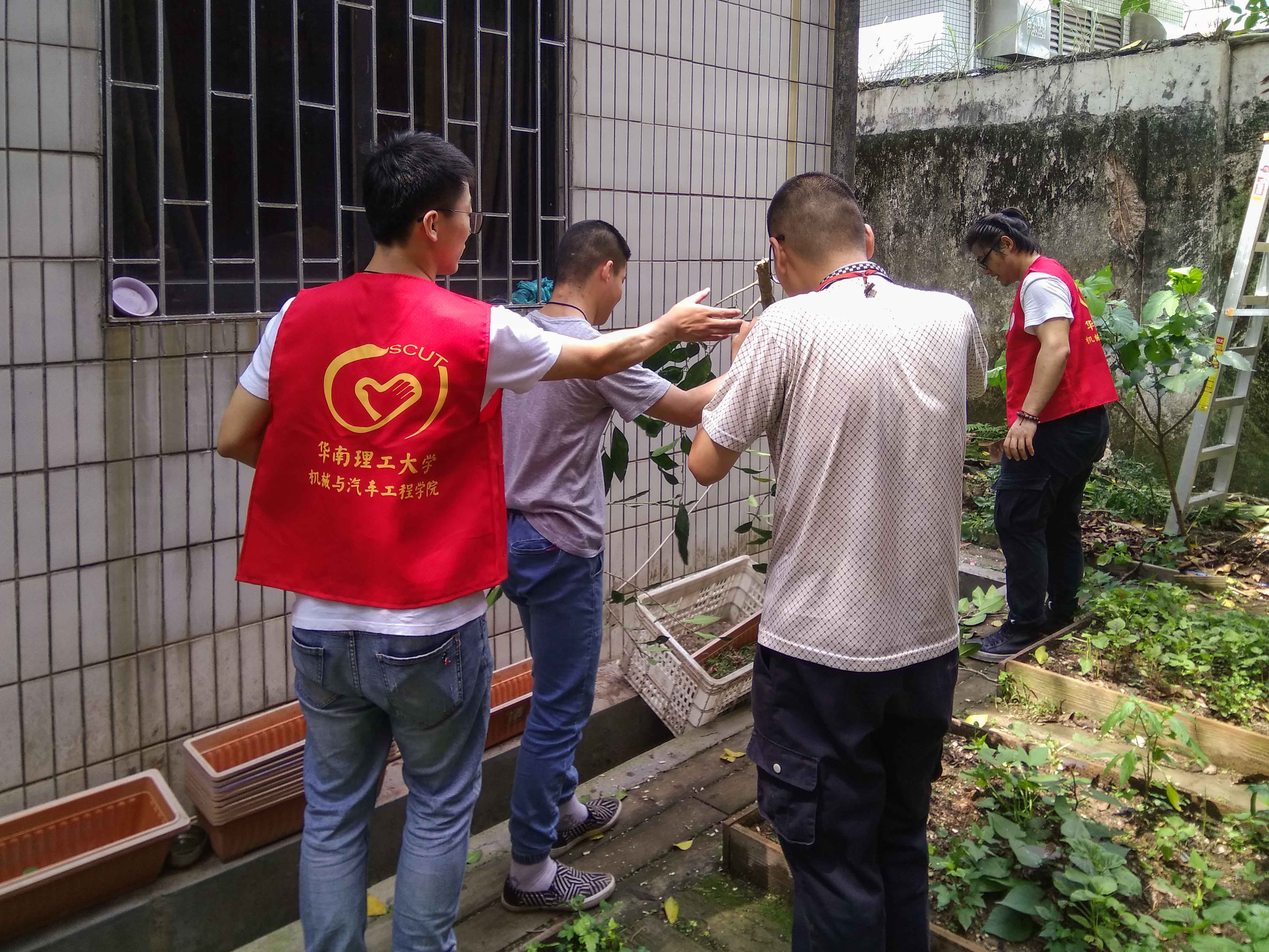other: (209, 124, 747, 942), (963, 196, 1140, 673)
